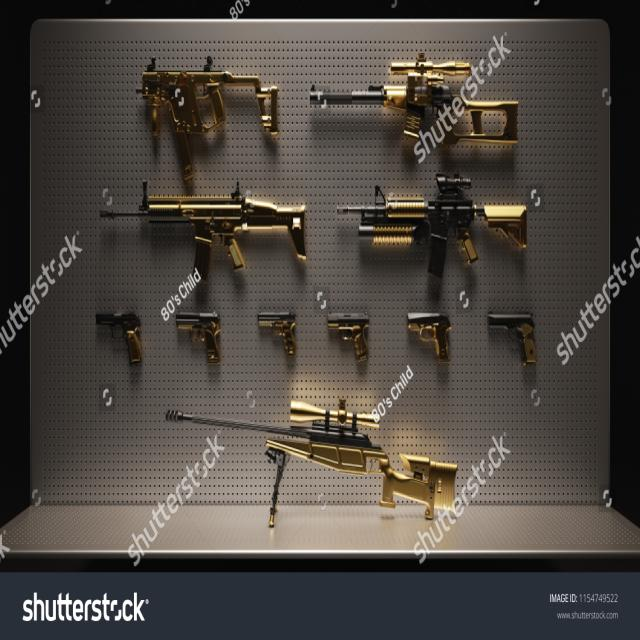HandGun: (489, 313, 538, 365), (96, 313, 142, 363), (176, 312, 221, 362), (408, 312, 451, 362), (328, 314, 369, 363), (258, 312, 297, 356)
Rifle: (163, 400, 457, 530), (344, 175, 527, 278), (100, 190, 306, 281), (310, 54, 517, 141)
SMG: (143, 72, 279, 180)
